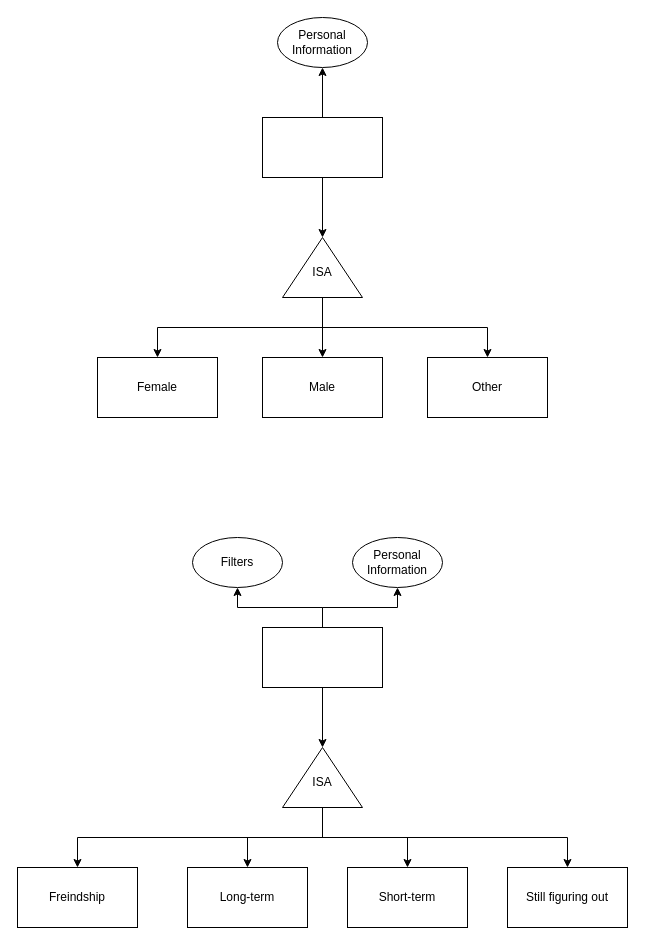
Image size: 645x945. Some labels were removed from this diagram. Each missing label, with the box of its shape:
Relationship type: (262, 626, 382, 688)
Users: (262, 116, 382, 178)
